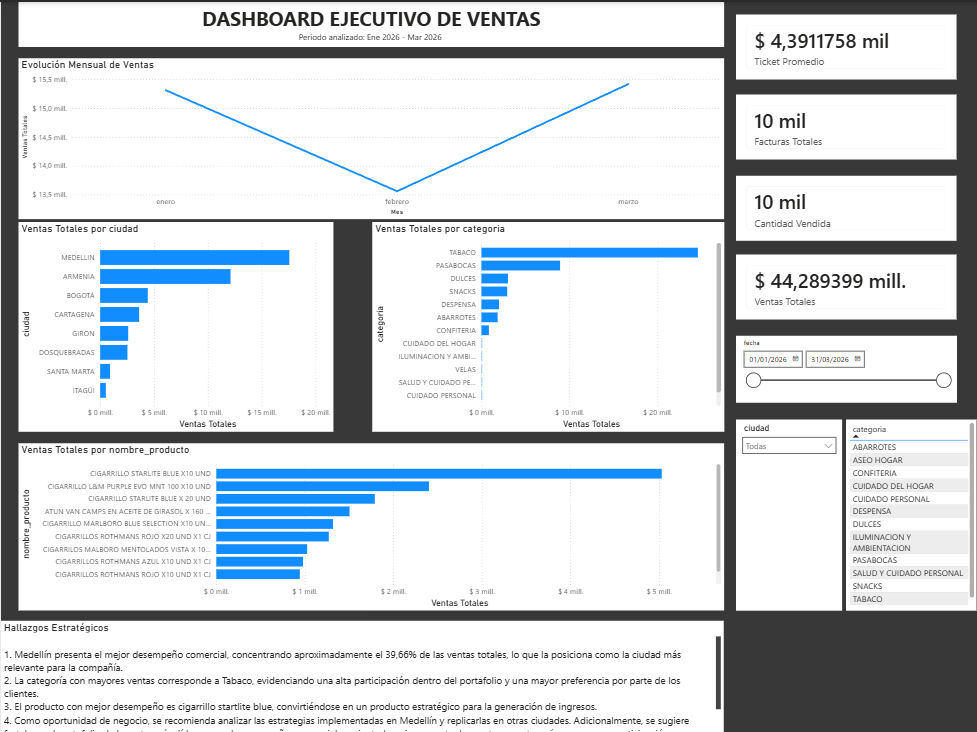

What the dashboard file says about the page in this screenshot:
{"tool":"powerbi","page":{"name":"Página 1","canvas":[1600,1200],"ordinal":0},"visuals":[{"type":"lineChart","title":"Evolución Mensual de Ventas","fields":{"Category":["Datos_Consolidados.fecha.Variación.Jerarquía de fechas.Mes"],"Y":["Datos_Consolidados.Ventas Totales"]},"box":[28.3,91.3,1154.3,263],"z":0},{"type":"clusteredBarChart","fields":{"Category":["Datos_Consolidados.ciudad"],"Y":["Datos_Consolidados.Ventas Totales"]},"box":[28.3,360.9,515.2,343.5],"z":1},{"type":"clusteredBarChart","fields":{"Y":["Datos_Consolidados.Ventas Totales"],"Category":["Datos_Consolidados.categoria"]},"box":[606.5,360.9,576.1,343.5],"z":2},{"type":"clusteredBarChart","fields":{"Category":["Datos_Consolidados.nombre_producto"],"Y":["Datos_Consolidados.Ventas Totales"]},"box":[28.3,721.7,1154.3,273.9],"z":3},{"type":"slicer","fields":{"Values":["Datos_Consolidados.fecha"]},"box":[1202.2,545.7,360.9,108.7],"z":4},{"type":"slicer","fields":{"Values":["Datos_Consolidados.ciudad"]},"box":[1202.2,682.6,173.9,313],"z":5},{"type":"tableEx","fields":{"Values":["Datos_Consolidados.categoria"]},"box":[1382.6,682.6,215.2,313],"z":6},{"type":"textbox","title":"Hallazgos Estratégicos","box":[0,1013,1182.6,187],"z":7},{"type":"cardVisual","fields":{"Data":["Datos_Consolidados.Ventas Totales"]},"box":[1202.2,413,360.9,106.5],"z":8},{"type":"cardVisual","fields":{"Data":["Datos_Consolidados.Cantidad Vendida"]},"box":[1202.2,284.8,360.9,106.5],"z":9},{"type":"cardVisual","fields":{"Data":["Datos_Consolidados.Facturas Totales"]},"box":[1202.2,152.2,360.9,106.5],"z":10},{"type":"cardVisual","fields":{"Data":["Datos_Consolidados.Ticket Promedio"]},"box":[1202.2,19.6,360.9,106.5],"z":11},{"type":"textbox","box":[28.3,0,1154.3,73.9],"z":12}]}

Visuals, with their boxes in screenshot pixels (x1, y1, x2, y2), scaled from the page's 1600x1200 canvas onto the 977x732 screenshot:
"Evolución Mensual de Ventas" lineChart: bbox=(17, 56, 722, 216)
clusteredBarChart - Datos_Consolidados.ciudad x Datos_Consolidados.Ventas Totales: bbox=(17, 220, 332, 430)
clusteredBarChart - Datos_Consolidados.Ventas Totales x Datos_Consolidados.categoria: bbox=(370, 220, 722, 430)
clusteredBarChart - Datos_Consolidados.nombre_producto x Datos_Consolidados.Ventas Totales: bbox=(17, 440, 722, 607)
slicer - Datos_Consolidados.fecha: bbox=(734, 333, 954, 399)
slicer - Datos_Consolidados.ciudad: bbox=(734, 416, 840, 607)
tableEx - Datos_Consolidados.categoria: bbox=(844, 416, 976, 607)
"Hallazgos Estratégicos" textbox: bbox=(0, 618, 722, 731)
cardVisual - Datos_Consolidados.Ventas Totales: bbox=(734, 252, 954, 317)
cardVisual - Datos_Consolidados.Cantidad Vendida: bbox=(734, 174, 954, 239)
cardVisual - Datos_Consolidados.Facturas Totales: bbox=(734, 93, 954, 158)
cardVisual - Datos_Consolidados.Ticket Promedio: bbox=(734, 12, 954, 77)
textbox: bbox=(17, 0, 722, 45)
